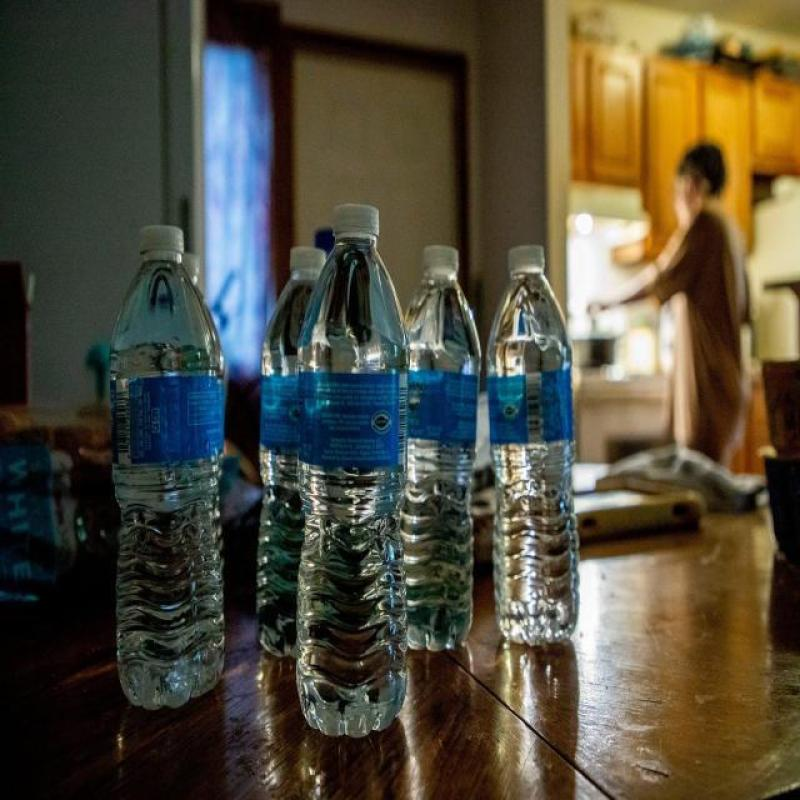botella: (293, 203, 409, 742), (110, 224, 230, 705), (488, 246, 582, 649), (404, 244, 484, 650), (254, 246, 327, 659)
